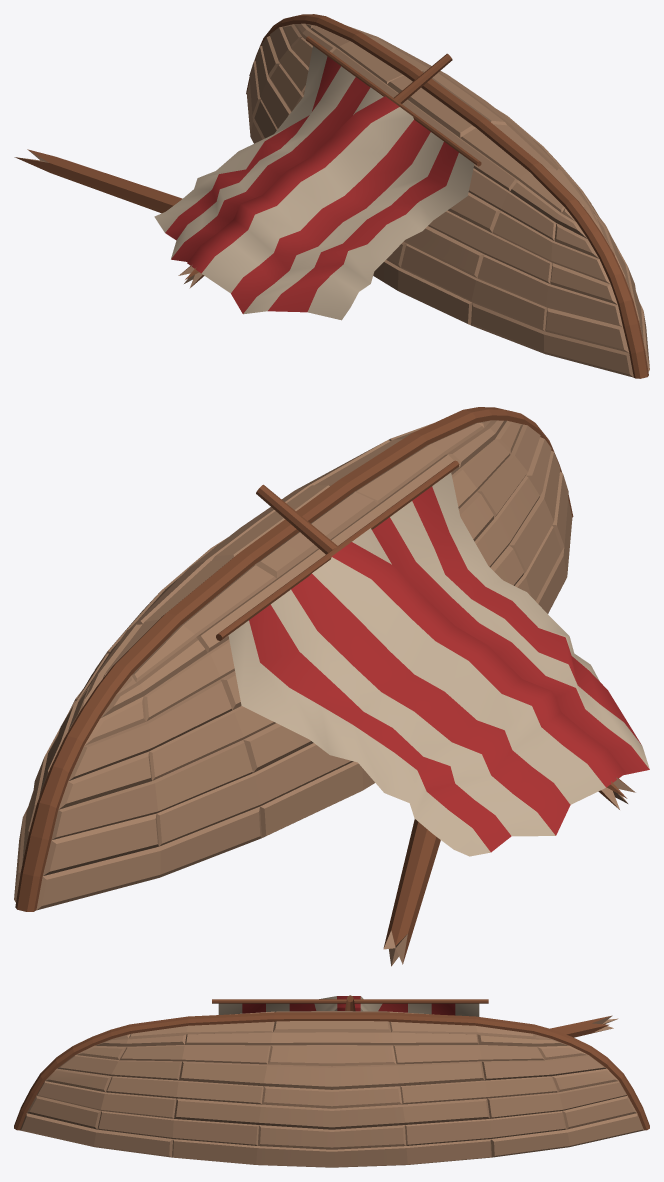
The model's file is Barca_naufragada.fbx.
3 views of the same model, one above another, from view 1: azimuth 30°, elevation 25°; view 2: azimuth 150°, elevation 25°; view 3: azimuth 270°, elevation 25° (orthographic). The views are drawn at different scales.
Visible parts, largest first — view 1: Barca_naufragada; view 2: Barca_naufragada; view 3: Barca_naufragada.
Boxes of the visible parts, x1,y1,x2,y2 form: Barca_naufragada: (14,14,649,378); Barca_naufragada: (14,407,649,966); Barca_naufragada: (14,995,649,1167).
Bounding box in the file's own units: 5.51 × 2.62 × 10.46.
